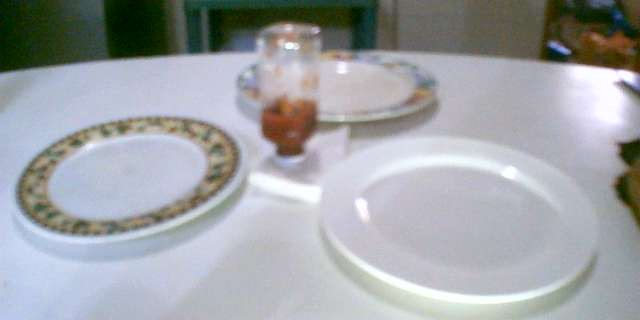empty_plate: (309, 127, 606, 315), (8, 109, 248, 249), (232, 45, 448, 125)
ketchup_bottle: (248, 15, 329, 173)
